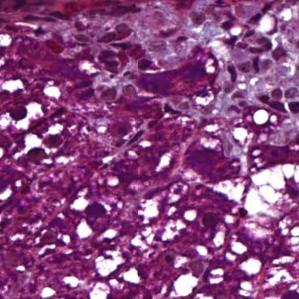ballooning: (211, 160, 299, 221)
